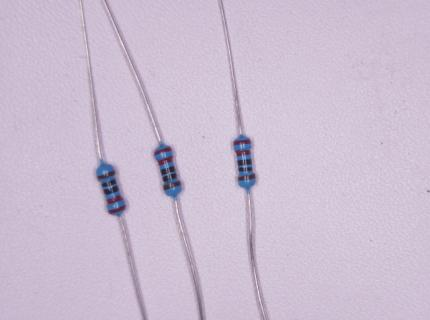Black band: (104, 185, 119, 195), (101, 179, 117, 188), (161, 166, 175, 175), (163, 173, 177, 182), (238, 158, 252, 165), (239, 167, 253, 172)
Brown band: (163, 181, 181, 190), (97, 170, 115, 179), (238, 174, 255, 181)
Red band: (108, 205, 126, 215), (106, 195, 123, 205), (154, 147, 172, 156), (158, 156, 173, 166), (233, 140, 252, 146), (236, 150, 251, 156)
